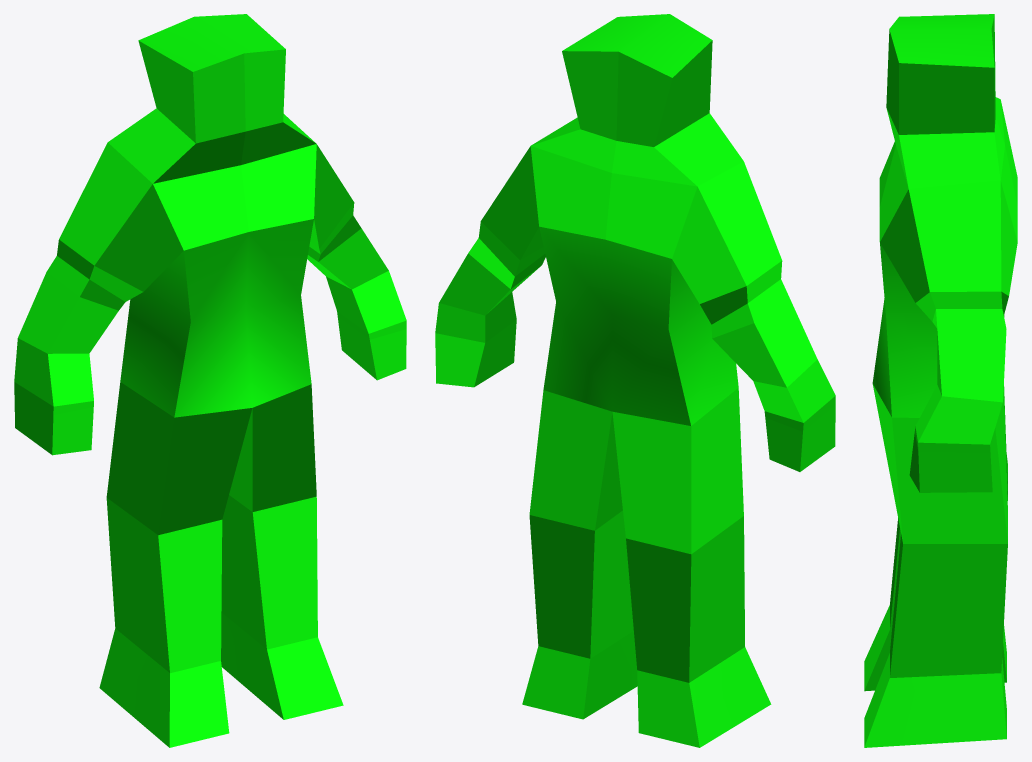
Rendered from FinalBaseMesh_max_green2.obj.
3 renders of one model, left to right at view 1: azimuth 30°, elevation 25°; view 2: azimuth 150°, elevation 25°; view 3: azimuth 270°, elevation 25°, orthographic. The views are drawn at different scales.
Visible parts, largest first — view 1: Box002; view 2: Box002; view 3: Box002.
Boxes of the visible parts, x1,y1,x2,y2 form: Box002: (14, 14, 406, 747); Box002: (435, 14, 835, 747); Box002: (864, 14, 1017, 747).
Size of the model in its own units: 11.99 by 21.08 by 4.34.
